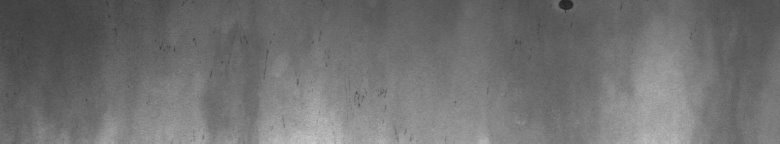fi: (515, 4, 622, 45)
